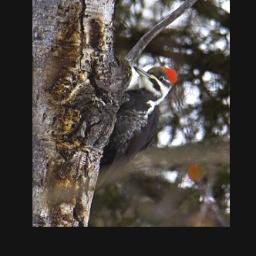Woodpecker: (101, 64, 181, 175)
